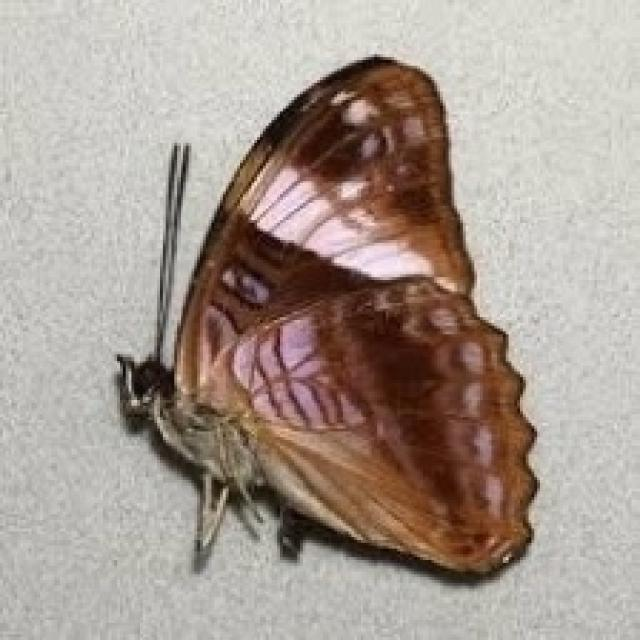butterfly: (111, 52, 540, 577)
